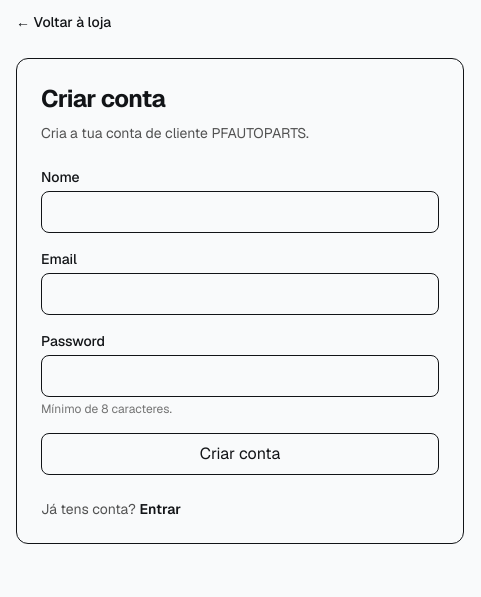
Test: RegisterPage › mostra erro quando o email já está registado
The image size is (481, 597).
Type "Buyer Teste" into the field labelled "Nome".
click(240, 212); type("Buyer Teste")  # box [41,191,439,233]
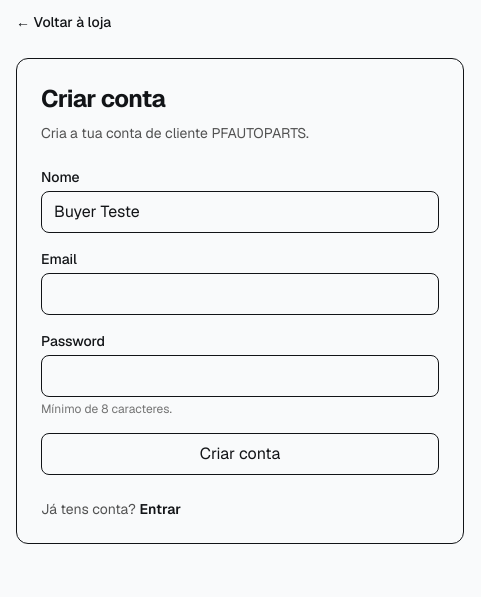
Type "buyer@example.com" into the field labelled "Email".
click(240, 294); type("buyer@example.com")  # box [41,273,439,315]
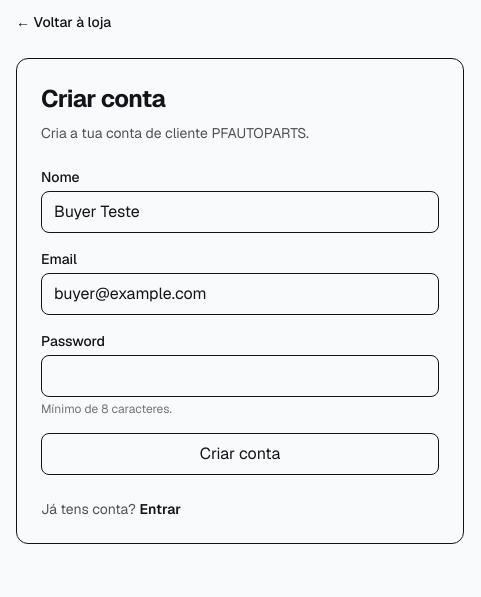
Type "password123" into the password field labelled "Password".
click(240, 376); type("password123")  # box [41,355,439,397]
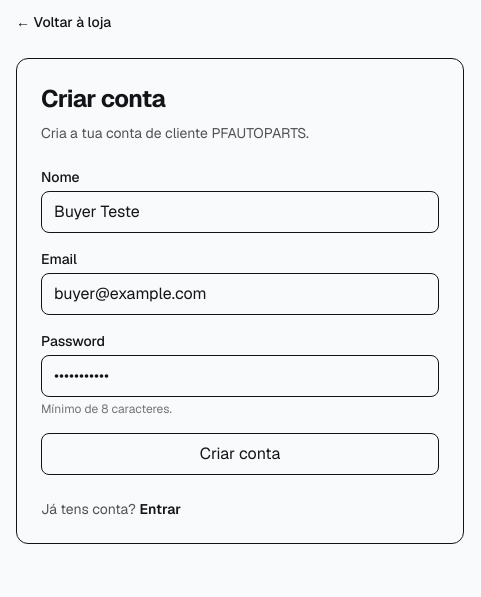
Submit the form "Criar conta", box [41,167,439,475]
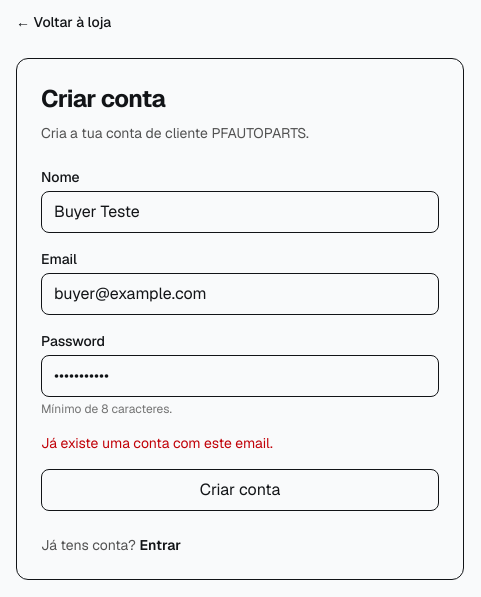
Expected: the button "Criar conta" is enabled, [41,469,439,511]
Expected: the message reads "Já existe uma conta com este email.", [41,434,273,452]
